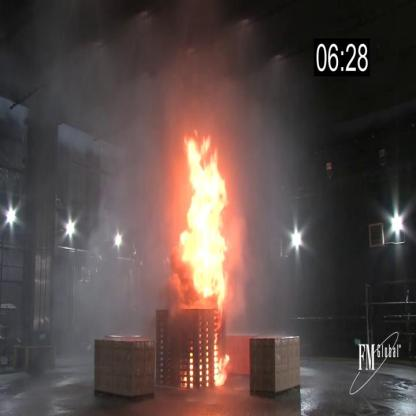fire: (176, 128, 229, 309), (215, 334, 231, 390)
